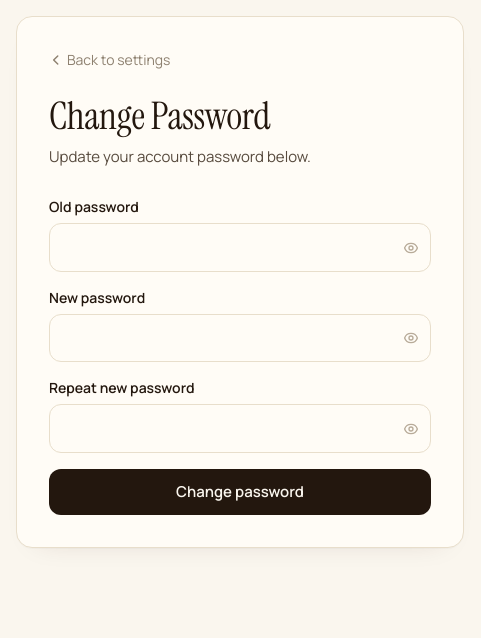
ChangePasswordPage › shows per-field errors when any field is empty
This screenshot has width=481, height=638.
Click the button "Change password" at x=240, y=492, box [49,469,431,515]
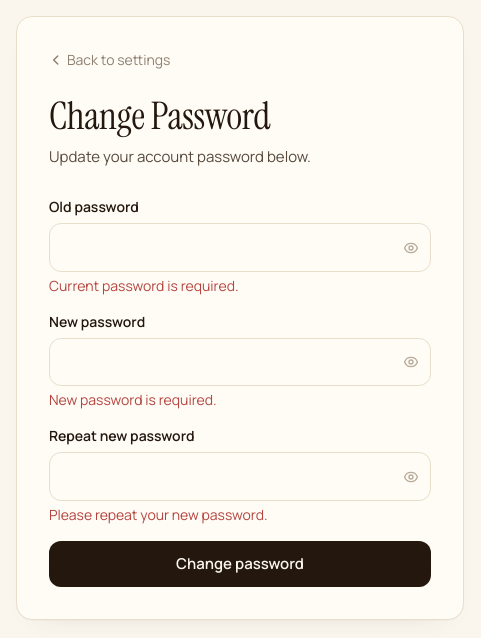
expect the text "Current password is required." is shown: met, box [49,276,238,295]
expect the text "New password is required." is shown: met, box [49,390,217,409]
expect the text "Please repeat your new password." is shown: met, box [49,505,268,524]
